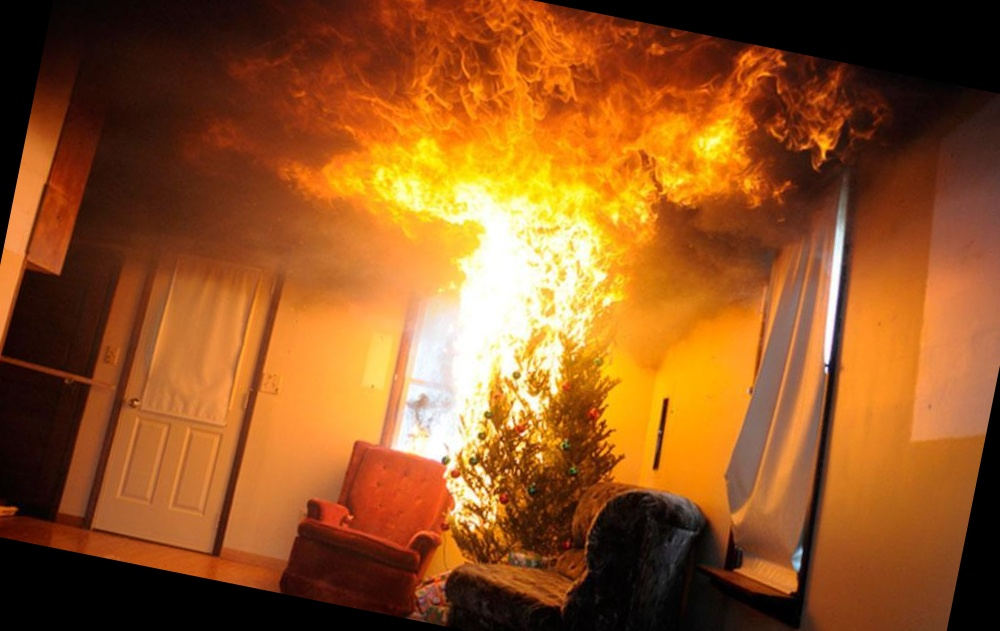fire: (123, 0, 869, 576)
